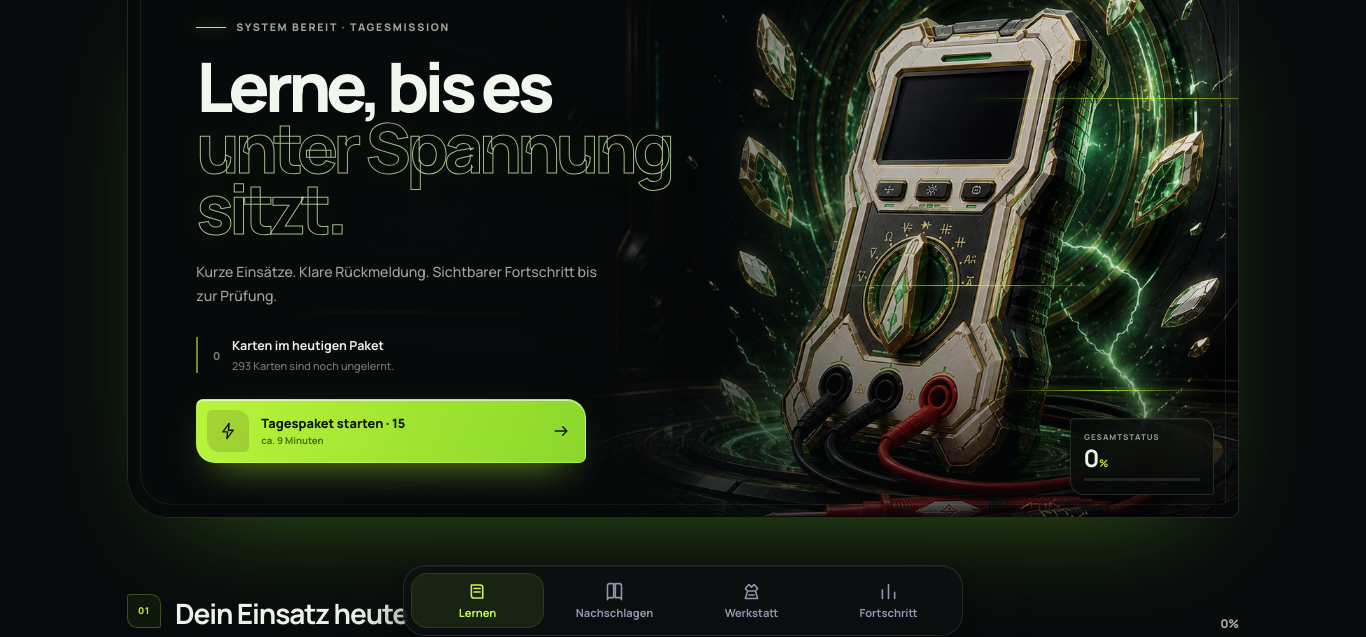
Test: Karten-Editor › legt eine eigene Karte an, die danach in der App auftaucht
Click the button "Fortschritt".
click(888, 600)  # box 822,573 -> 955,628
(page scrolled)
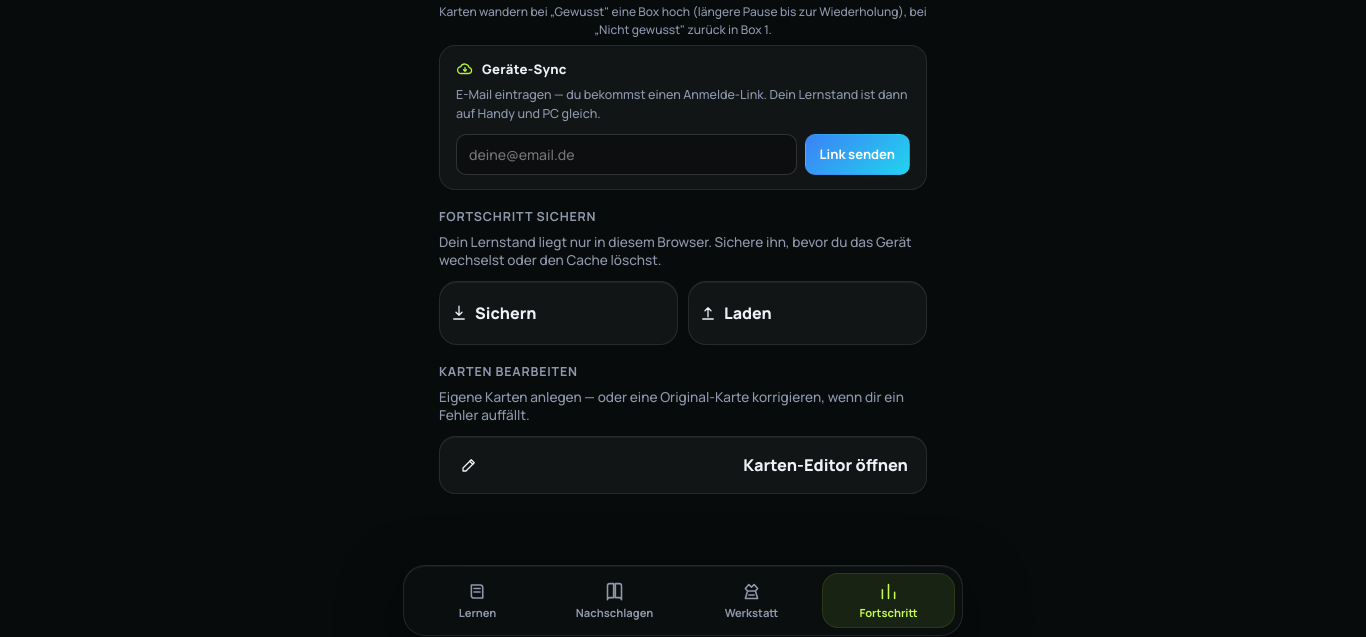
Click the button "Karten-Editor öffnen".
click(826, 465)  # box 439,436 -> 927,494
(page scrolled)
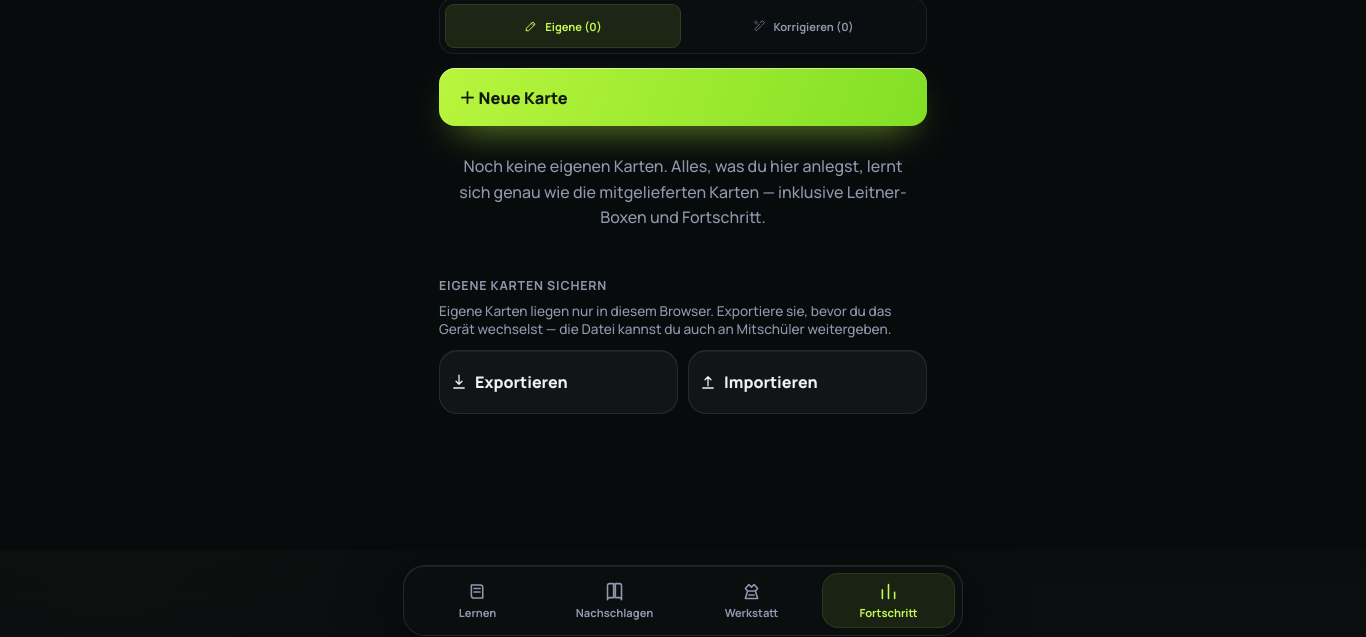
Click the button "＋ Neue Karte".
click(513, 98)  # box 439,68 -> 927,126
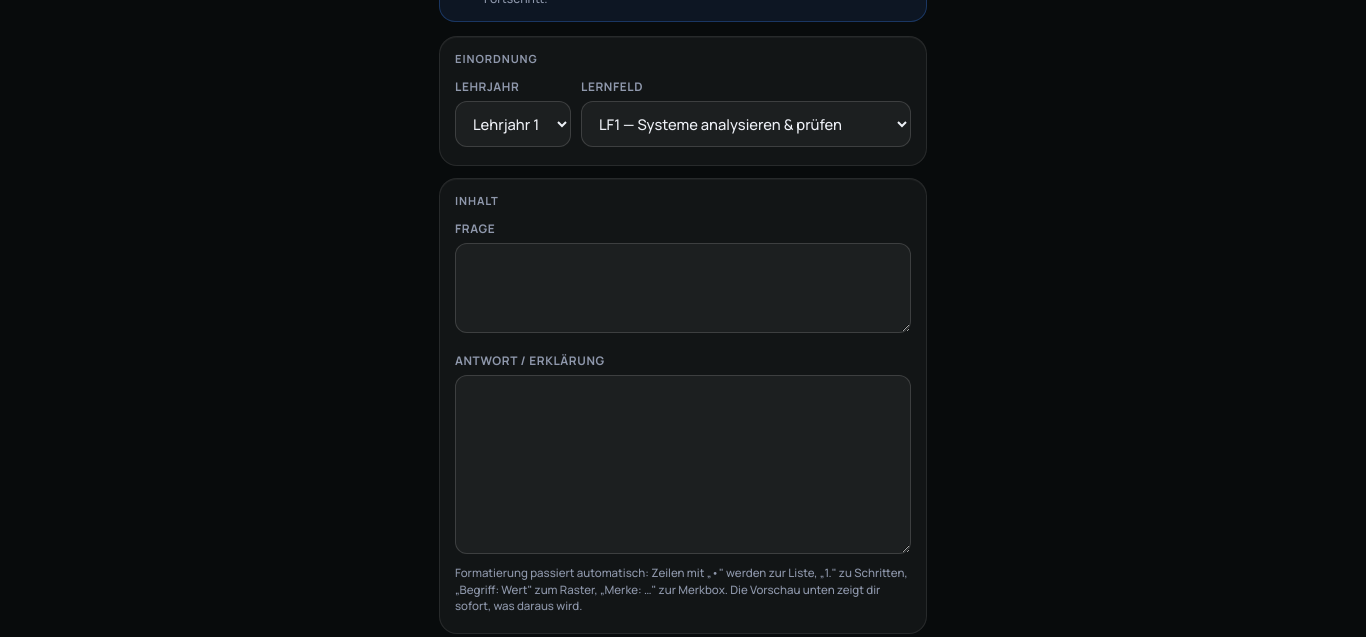
Type "Selbst gebaute Frage" into the text box with id "ed-f".
click(683, 288); type("Selbst gebaute Frage")  # box 455,243 -> 911,333
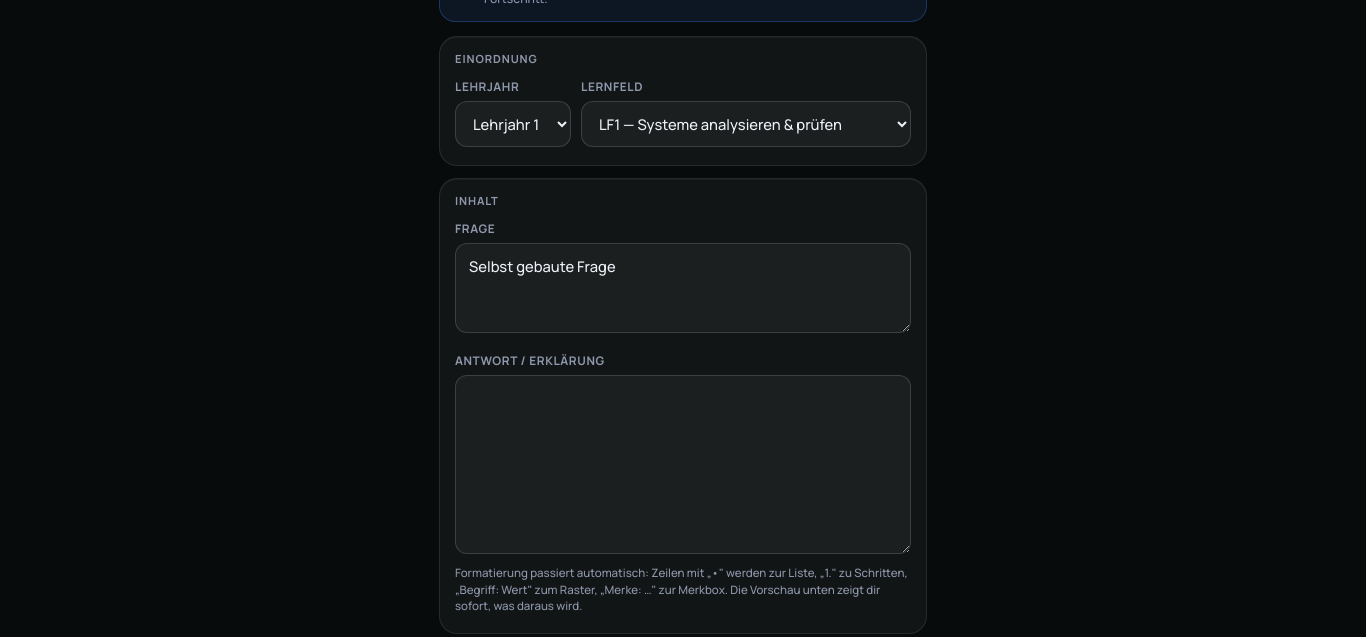
Type "Selbst gebaute Antwort" into the text box with id "ed-a".
click(683, 465); type("Selbst gebaute Antwort")  # box 455,375 -> 911,554
(page scrolled)
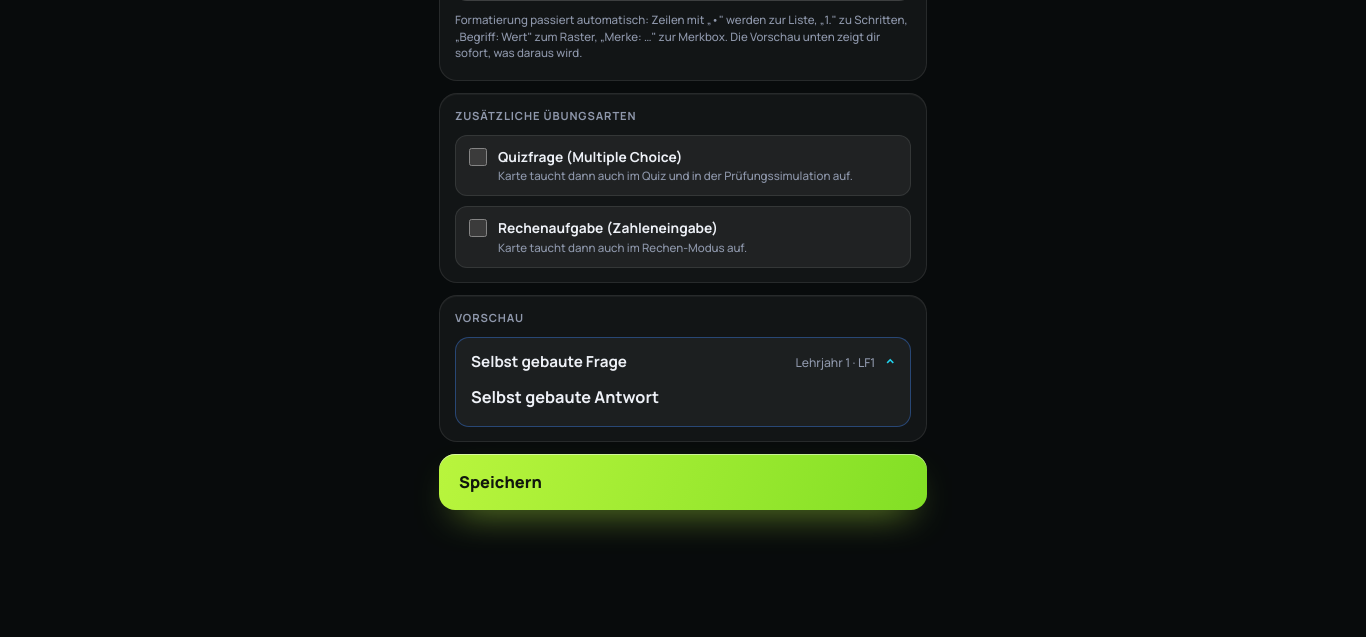
Click the button "Speichern".
click(500, 482)  # box 439,454 -> 927,510
(page scrolled)
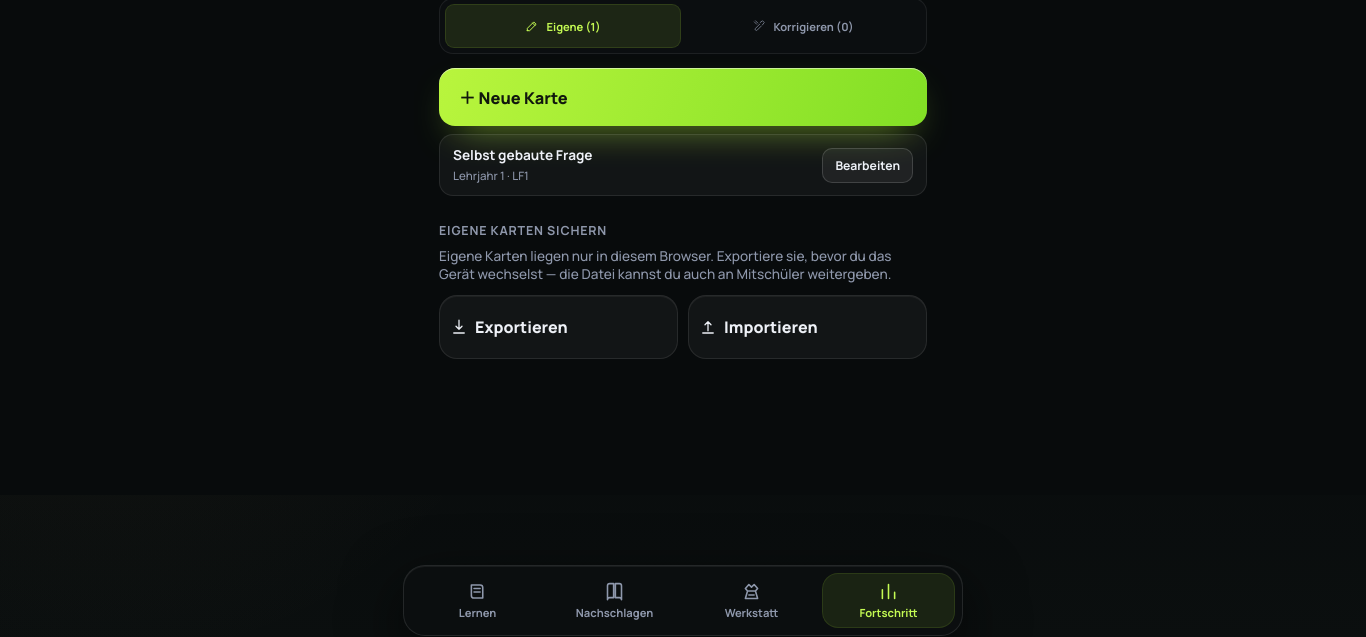
Result: the text "Selbst gebaute Frage" is shown at 453,146 -> 592,164
